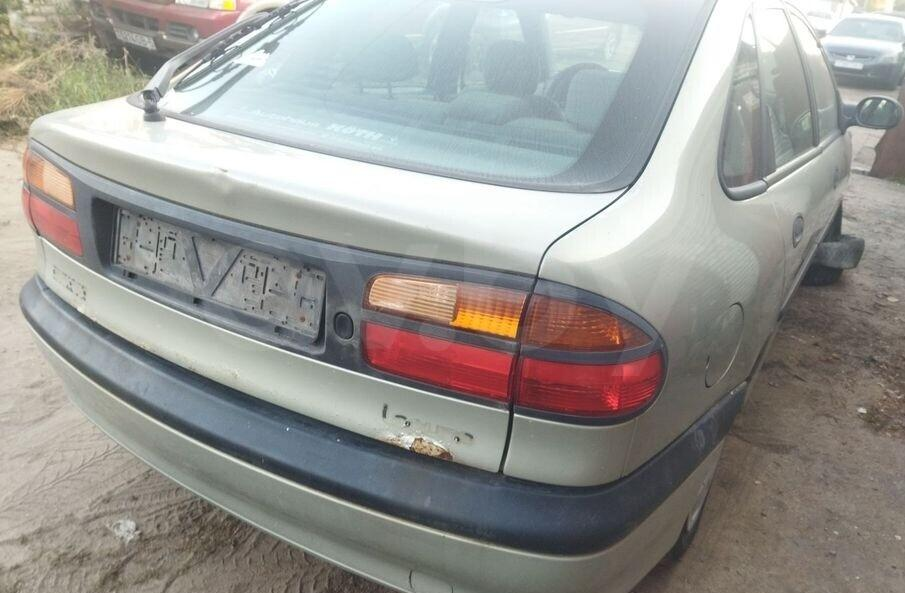Laguna_1998-2001: (12, 0, 854, 593)
